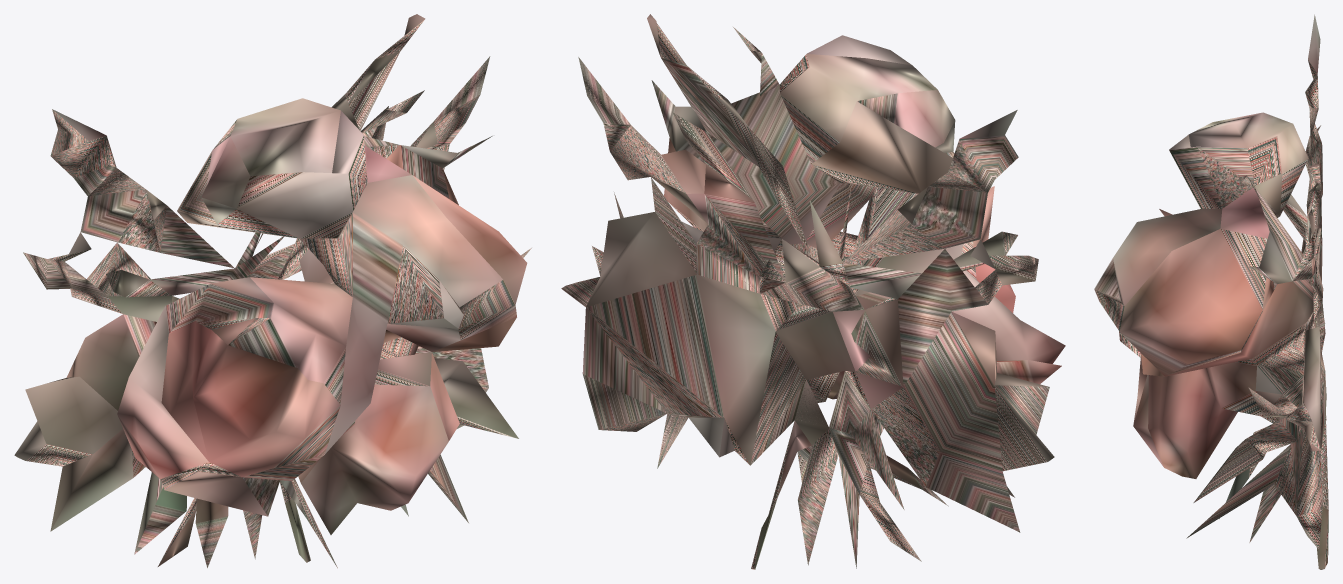
3 views of the same model, side by side, from view 1: azimuth 30°, elevation 25°; view 2: azimuth 150°, elevation 25°; view 3: azimuth 270°, elevation 25° (orthographic). The views are drawn at different scales.
Parts seen in each view (by area): view 1: Rose-Bouquet-9-29; view 2: Rose-Bouquet-9-29; view 3: Rose-Bouquet-9-29.
Boxes of the visible parts, box(x1,y1,x2,y2) form: Rose-Bouquet-9-29: box(14, 14, 531, 568); Rose-Bouquet-9-29: box(561, 14, 1065, 569); Rose-Bouquet-9-29: box(1094, 14, 1328, 569).
Size of the model in its own units: 0.2229 by 0.2276 by 0.1075.
1 material, 1 textured.
